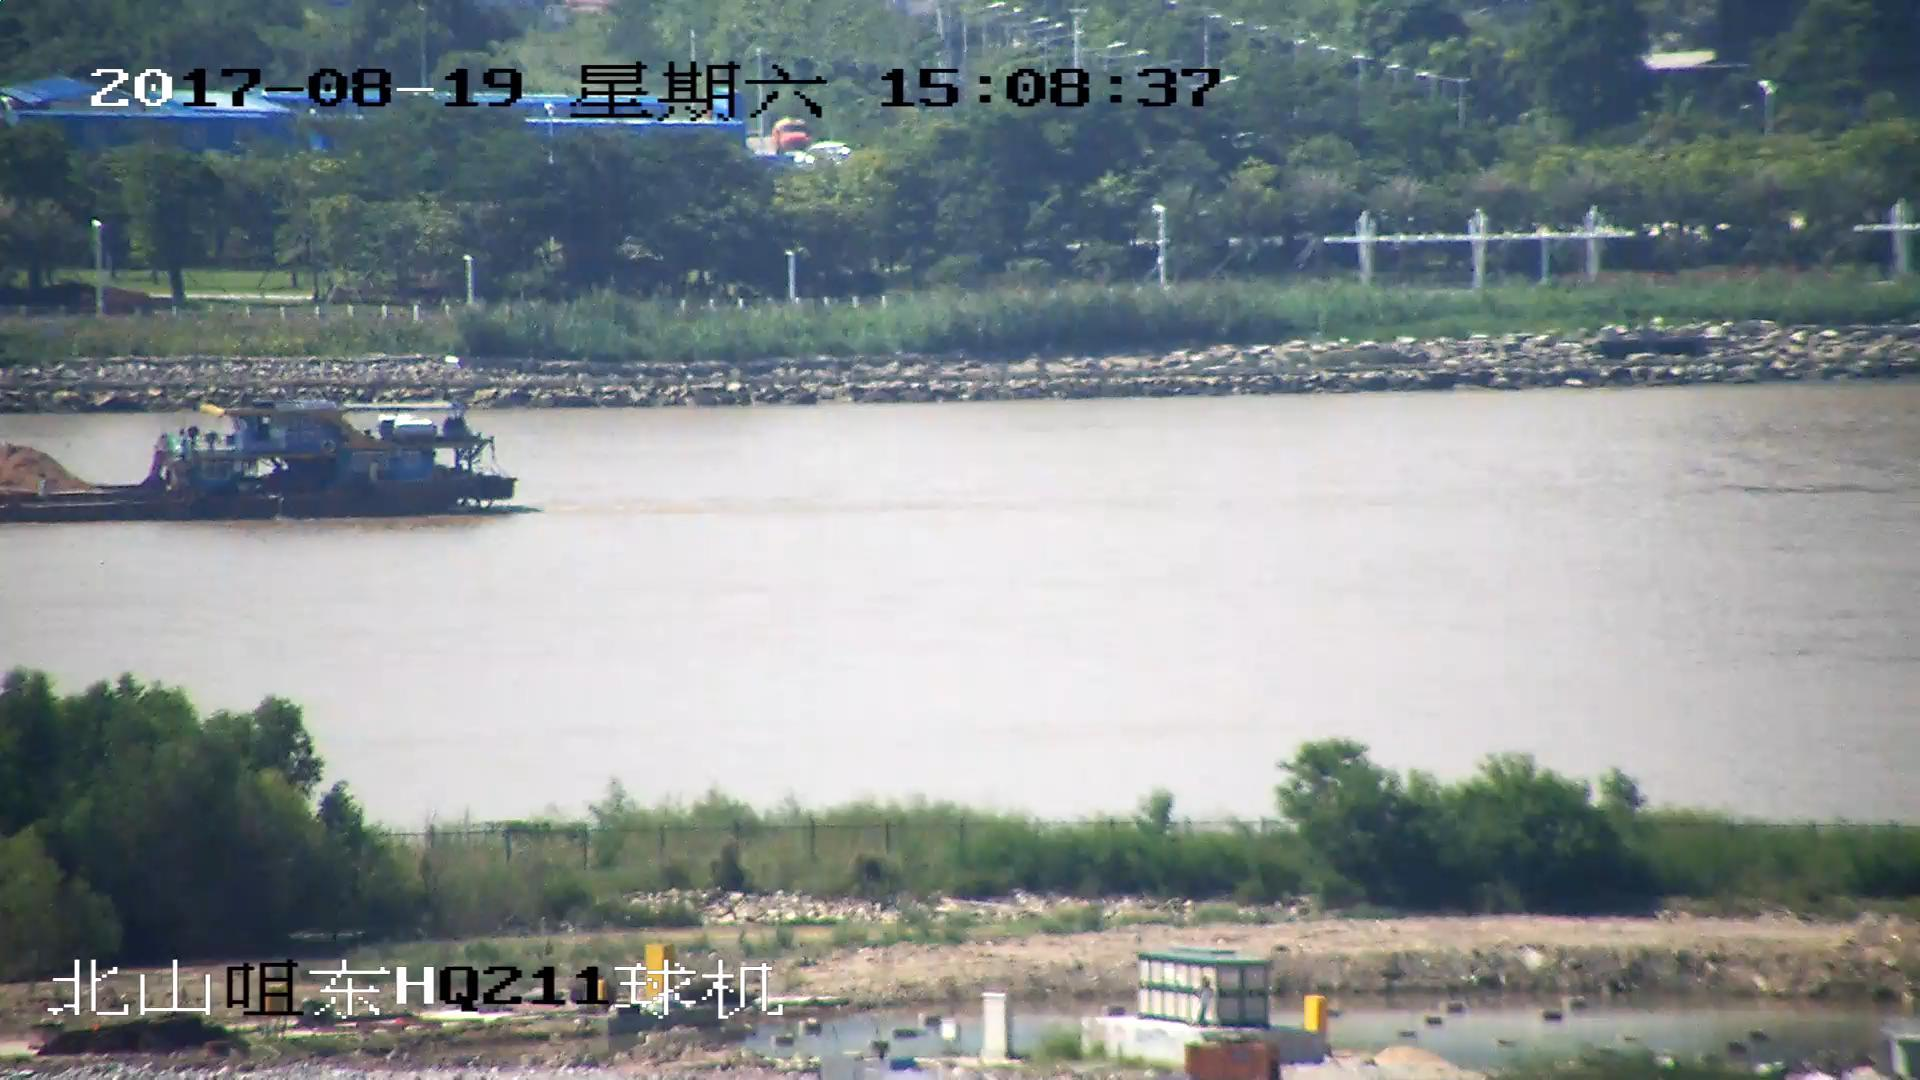Ship: (3, 390, 521, 527)
